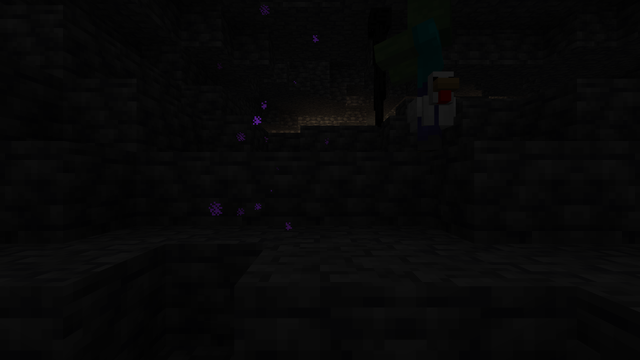endermens: (365, 2, 394, 126)
zombies: (401, 1, 464, 154)
